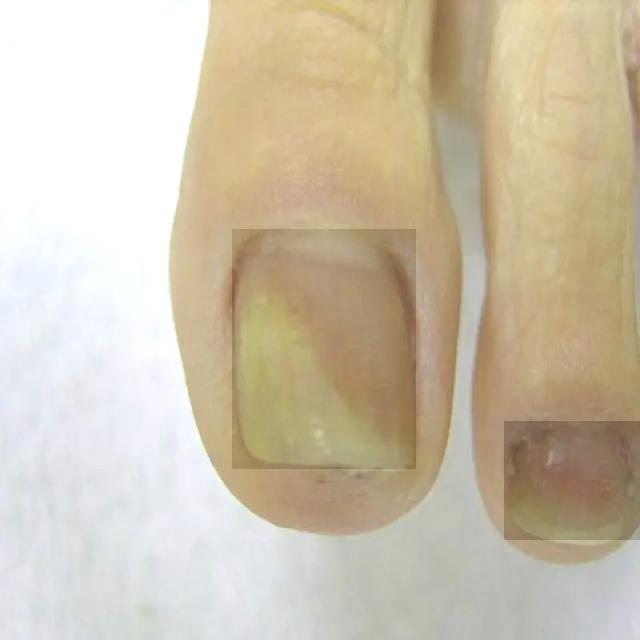diabetes: (232, 230, 416, 469), (504, 422, 640, 540)
